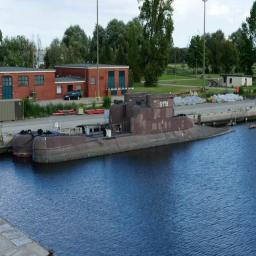submarine: (34, 95, 236, 162), (14, 92, 149, 159)
